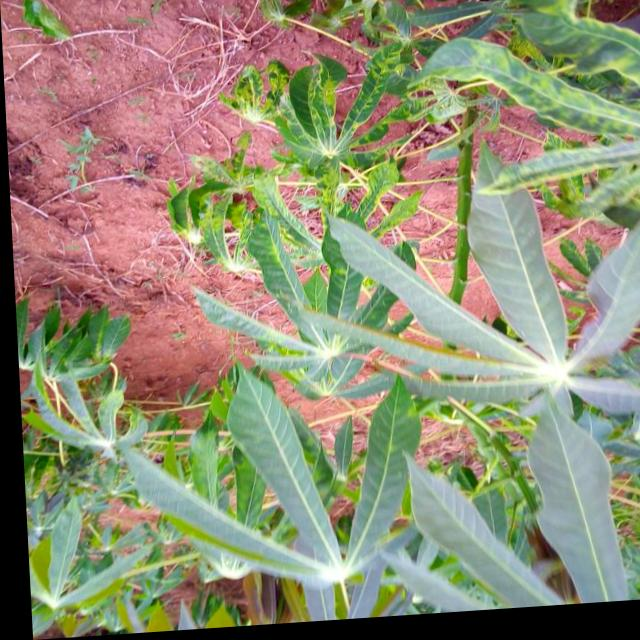Mosaico: (462, 16, 640, 225), (17, 298, 166, 489), (241, 50, 417, 189), (163, 157, 317, 284)
